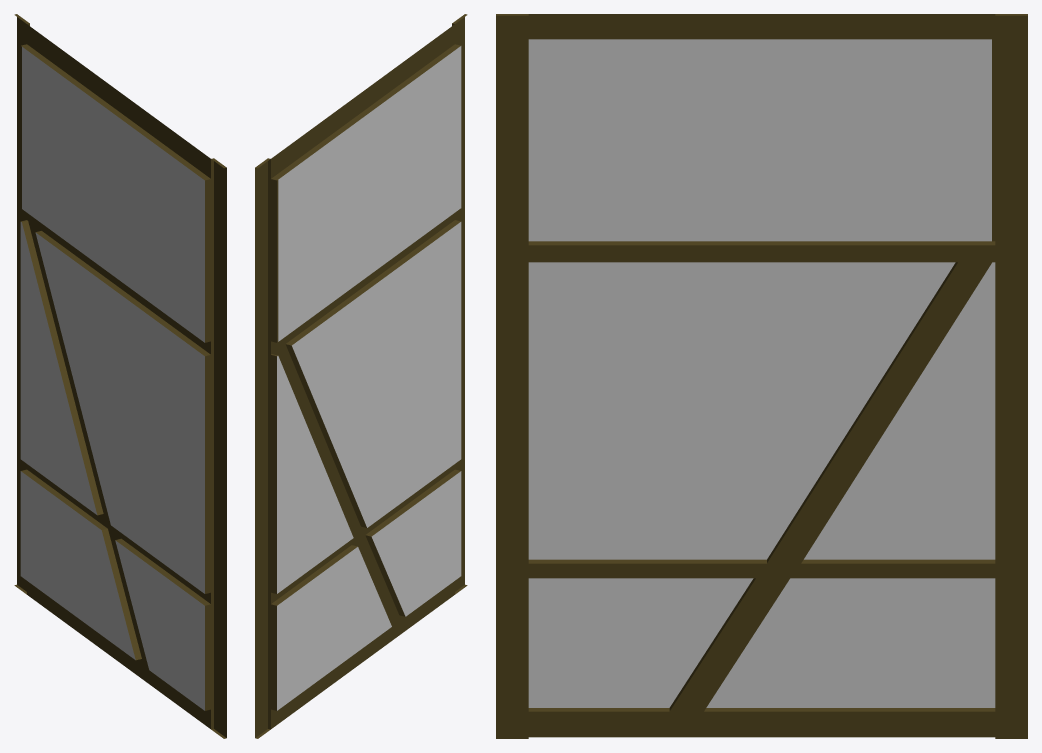
Rendered from GB_Wall_3Stripe_2M_V3.fbx.
The picture shows the model from 3 angles, left to right: view 1: azimuth 30°, elevation 25°; view 2: azimuth 150°, elevation 25°; view 3: azimuth 270°, elevation 25°; orthographic projection. The views are drawn at different scales.
Visible parts, largest first — view 1: L_HalfWall_Plaster_2; view 2: L_HalfWall_Plaster_2; view 3: L_HalfWall_Plaster_2.
Boxes of the visible parts, x1,y1,x2,y2 form: L_HalfWall_Plaster_2: (14, 14, 226, 738); L_HalfWall_Plaster_2: (255, 14, 467, 738); L_HalfWall_Plaster_2: (496, 14, 1027, 738).
Size of the model in its own units: 0.05 by 3 by 2.
